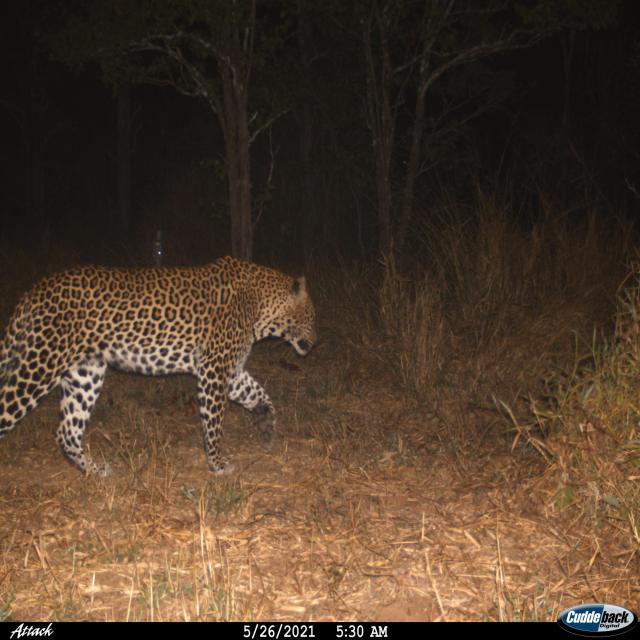Leopard: (0, 240, 314, 487)
